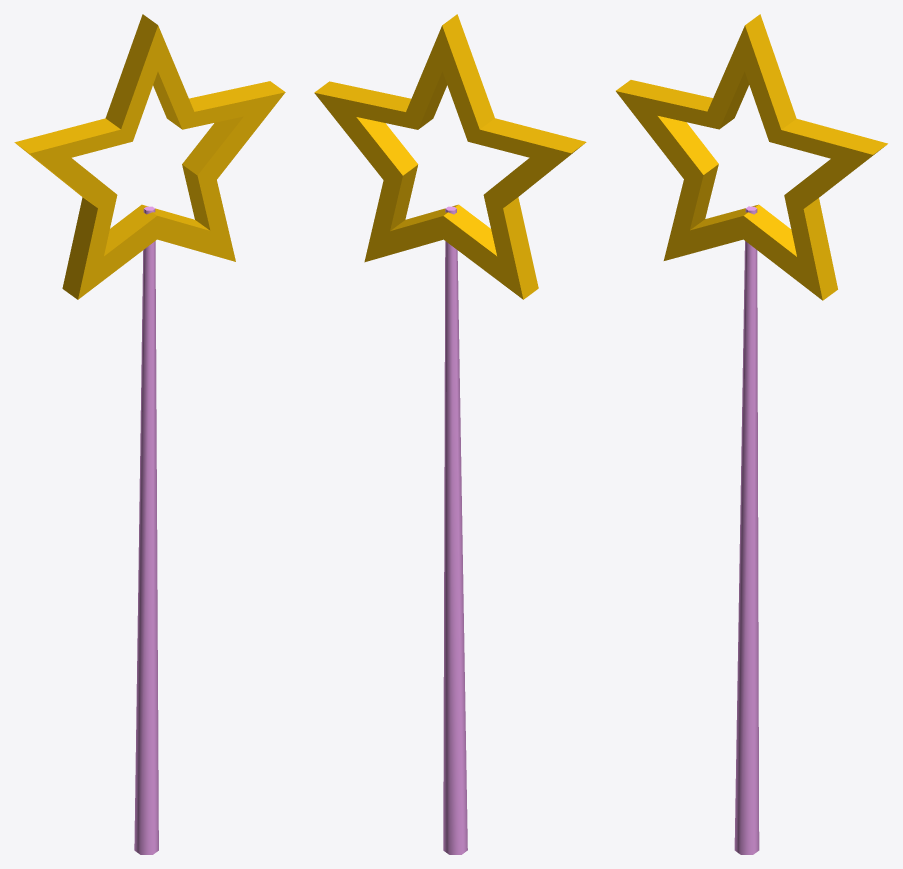
Rendered from Magic_Wand.fbx.
3 views of the same model, side by side, from view 1: azimuth 30°, elevation 25°; view 2: azimuth 150°, elevation 25°; view 3: azimuth 330°, elevation 25° (orthographic).
Parts seen in each view (by area): view 1: Magic_Wand_v02:pCylinder5; view 2: Magic_Wand_v02:pCylinder5; view 3: Magic_Wand_v02:pCylinder5.
Part boxes in pixels (<box>): Magic_Wand_v02:pCylinder5: <box>14,14,285,854</box>; Magic_Wand_v02:pCylinder5: <box>314,14,586,854</box>; Magic_Wand_v02:pCylinder5: <box>616,14,887,854</box>.
Size of the model in its own units: 7.42 by 22.9 by 0.8034.
